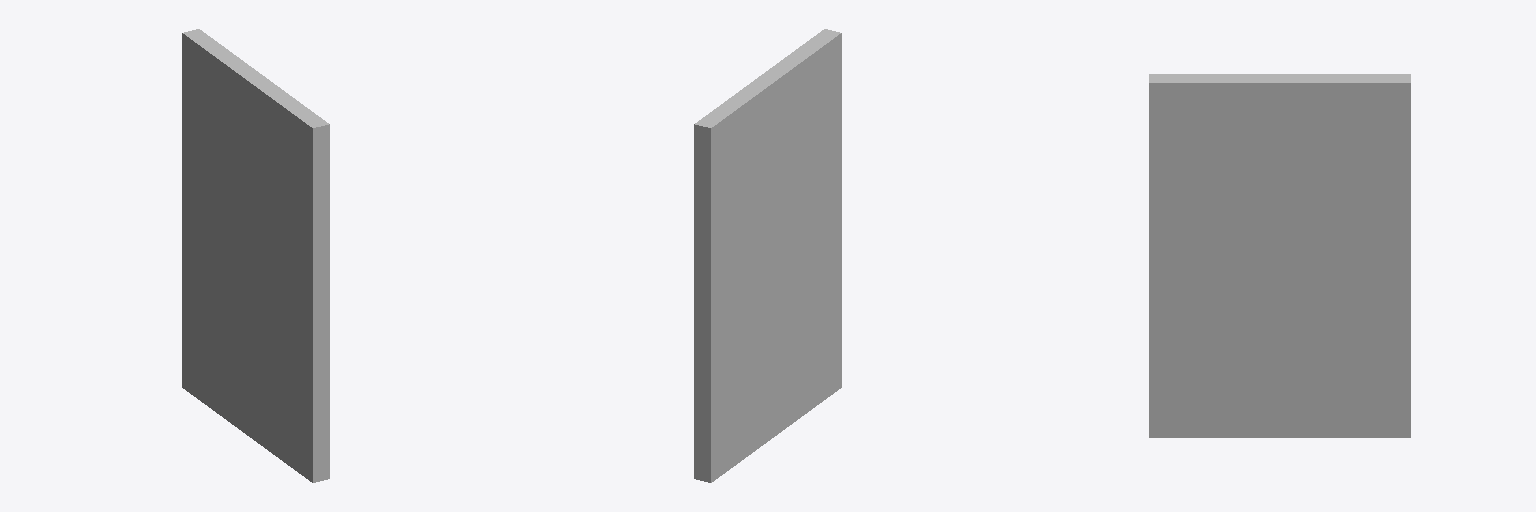
File: geam2.obj
3 renders of one model, left to right at view 1: azimuth 30°, elevation 25°; view 2: azimuth 150°, elevation 25°; view 3: azimuth 270°, elevation 25°, orthographic.
Parts seen in each view (by area): view 1: Cube; view 2: Cube; view 3: Cube.
Boxes of the visible parts, x1=… form: Cube: x1=182, y1=29, x2=329, y2=482; Cube: x1=694, y1=29, x2=841, y2=482; Cube: x1=1149, y1=74, x2=1410, y2=437.
Bounding box in the file's own units: 0.3 × 6 × 4.